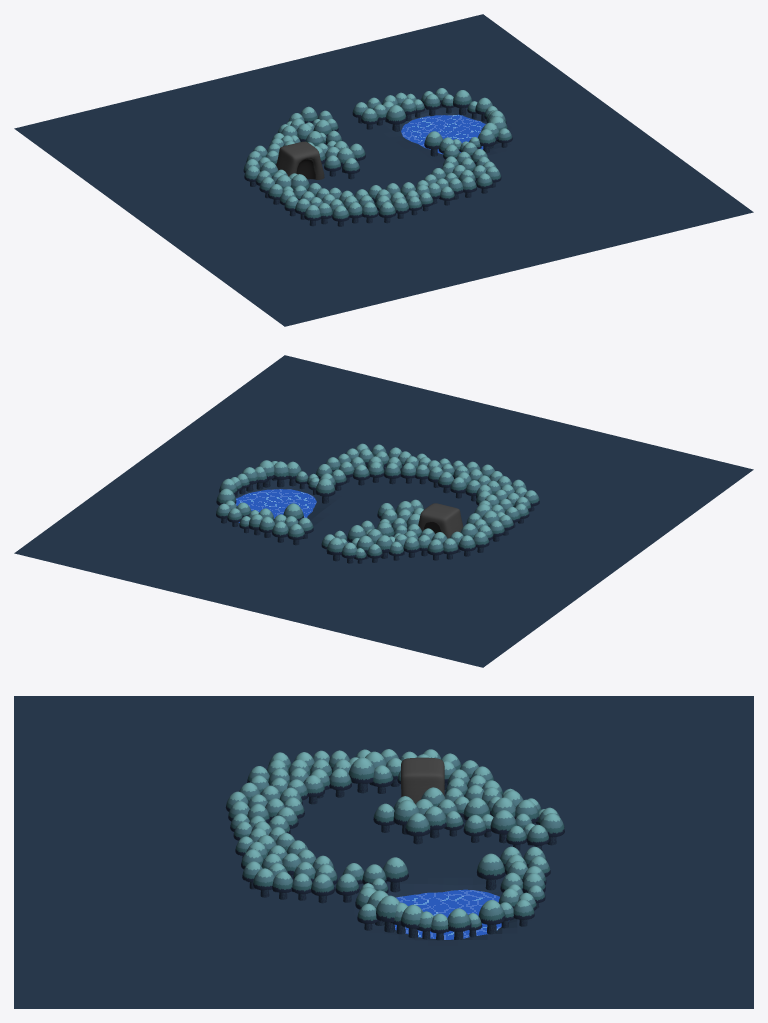
The model's file is Watering Hole Area.glb.
The picture shows the model from 3 angles, top to bottom: view 1: azimuth 30°, elevation 25°; view 2: azimuth 150°, elevation 25°; view 3: azimuth 270°, elevation 25°; orthographic projection. The views are drawn at different scales.
Parts seen in each view (by area): view 1: Watering Hole Terrain, Water, Cave Entrance Placeholder; view 2: Watering Hole Terrain, Water, Cave Entrance Placeholder; view 3: Watering Hole Terrain, Water, Cave Entrance Placeholder, Placeholder Tree.1100, Placeholder Tree.1038, Placeholder Tree.1093, Placeholder Tree.1131, Placeholder Tree.1086, Placeholder Tree.1130, Placeholder Tree.1124, Placeholder Tree.1088.
Part boxes in pixels (left/top/right/bottom): Watering Hole Terrain: left=14, top=14, right=753, bottom=326; Water: left=401, top=114, right=485, bottom=154; Cave Entrance Placeholder: left=276, top=141, right=324, bottom=179; Watering Hole Terrain: left=14, top=355, right=753, bottom=667; Water: left=236, top=489, right=316, bottom=522; Cave Entrance Placeholder: left=418, top=503, right=463, bottom=538; Watering Hole Terrain: left=14, top=696, right=753, bottom=1008; Water: left=394, top=889, right=501, bottom=939; Cave Entrance Placeholder: left=401, top=757, right=444, bottom=803; Placeholder Tree.1100: left=476, top=853, right=505, bottom=890; Placeholder Tree.1038: left=348, top=757, right=374, bottom=793; Placeholder Tree.1093: left=478, top=900, right=505, bottom=934; Placeholder Tree.1131: left=383, top=857, right=408, bottom=892; Placeholder Tree.1086: left=376, top=895, right=399, bottom=932; Placeholder Tree.1130: left=405, top=813, right=430, bottom=844; Placeholder Tree.1124: left=490, top=810, right=516, bottom=843; Placeholder Tree.1088: left=447, top=908, right=471, bottom=939.
Size of the model in its own units: 100 by 8.42 by 100.
5 materials, 4 textured.
